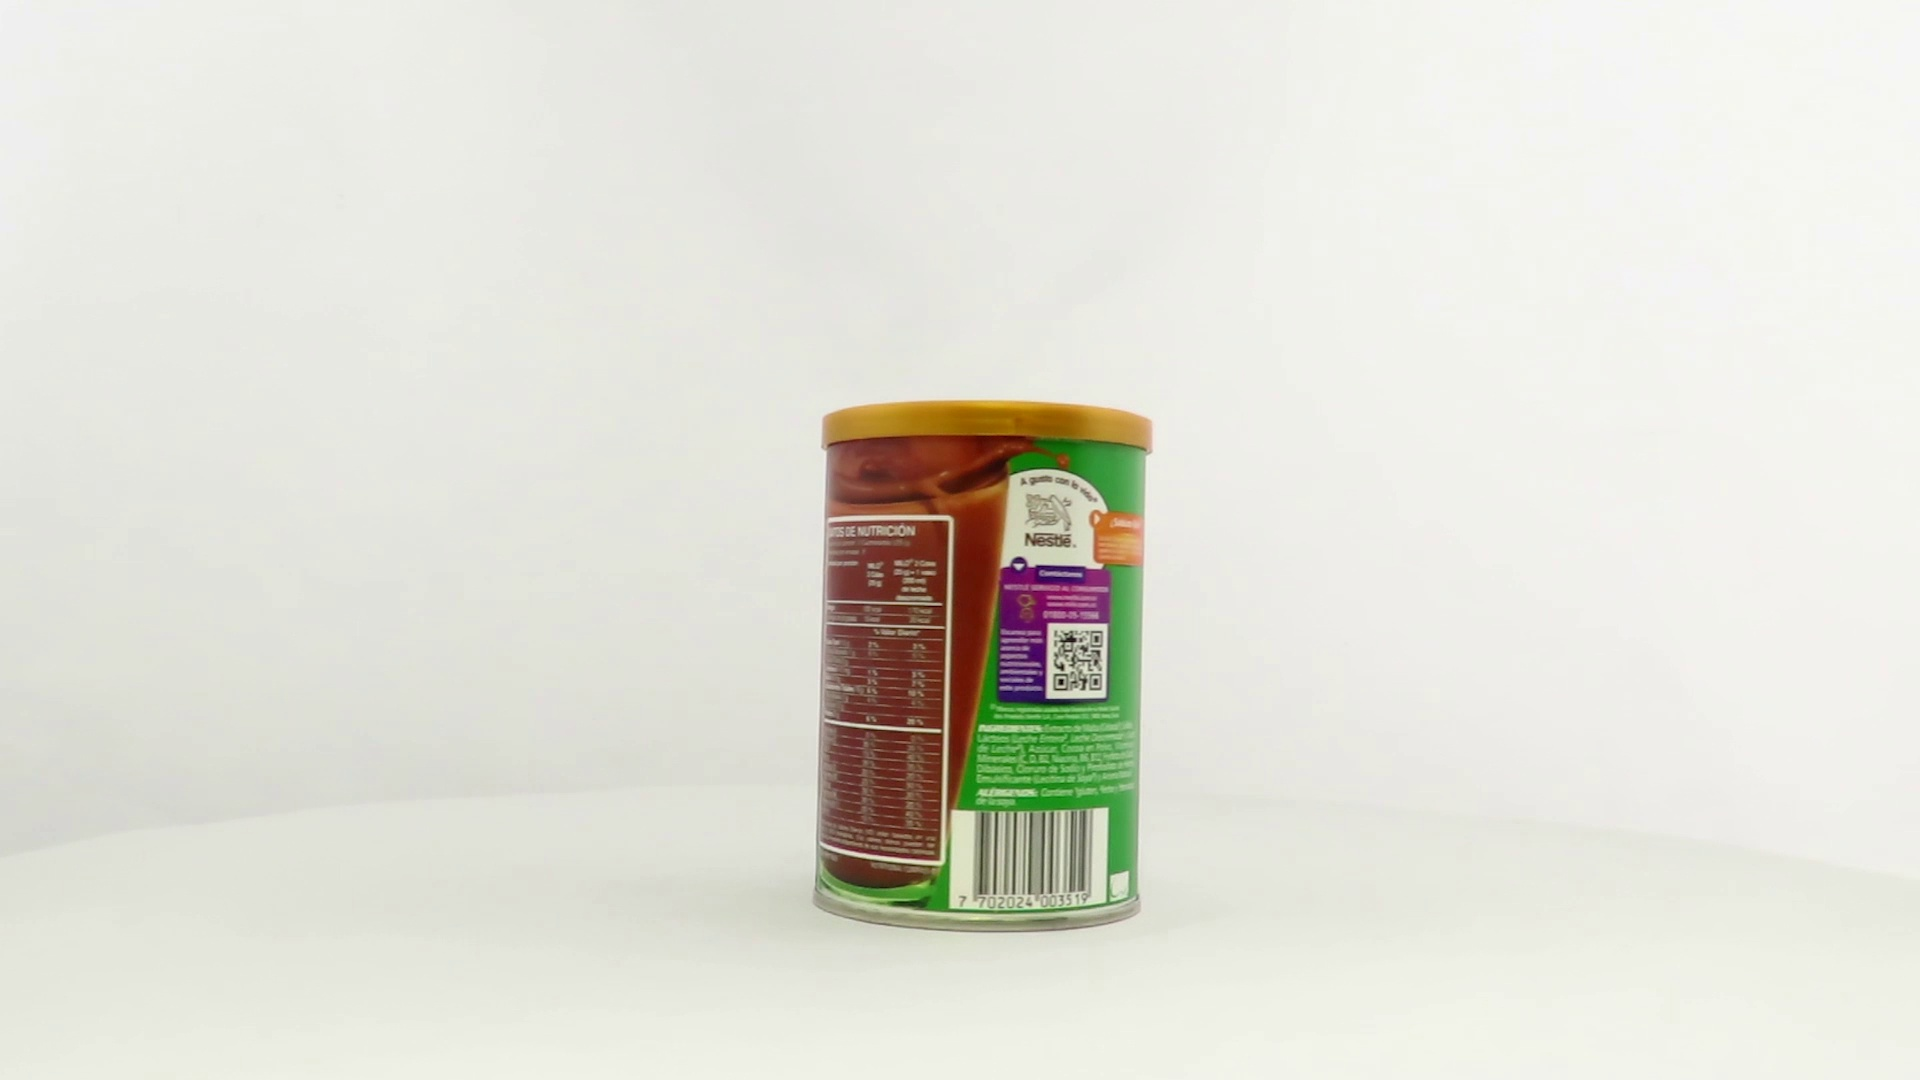COL0170203LAT20000: (807, 396, 1159, 939)
